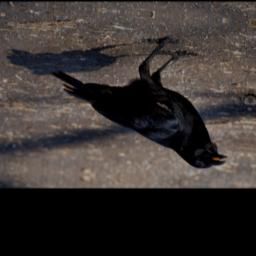Crow: (44, 27, 238, 172)
